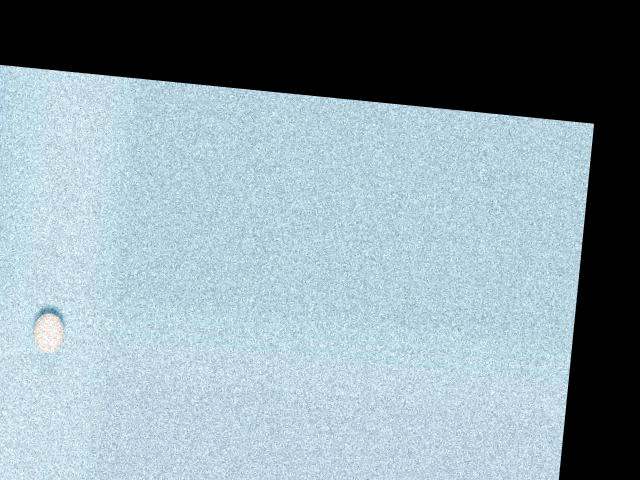egg: (31, 311, 65, 354)
